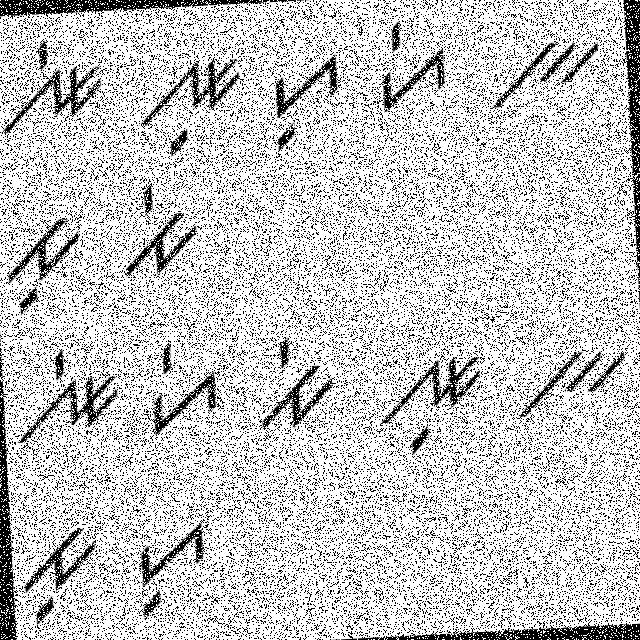he: (367, 10, 456, 118), (144, 329, 226, 442)
hu: (126, 512, 220, 629), (258, 44, 352, 158)
mbe: (250, 318, 349, 442), (106, 178, 205, 282)
mbu: (0, 204, 94, 324), (15, 510, 109, 630)
nde: (0, 32, 113, 145), (12, 342, 128, 443)
ndu: (366, 339, 492, 456), (127, 41, 245, 160)
